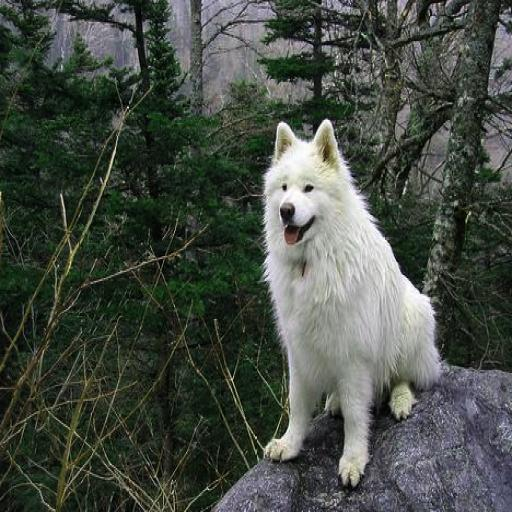dog_face: (262, 120, 348, 252)
